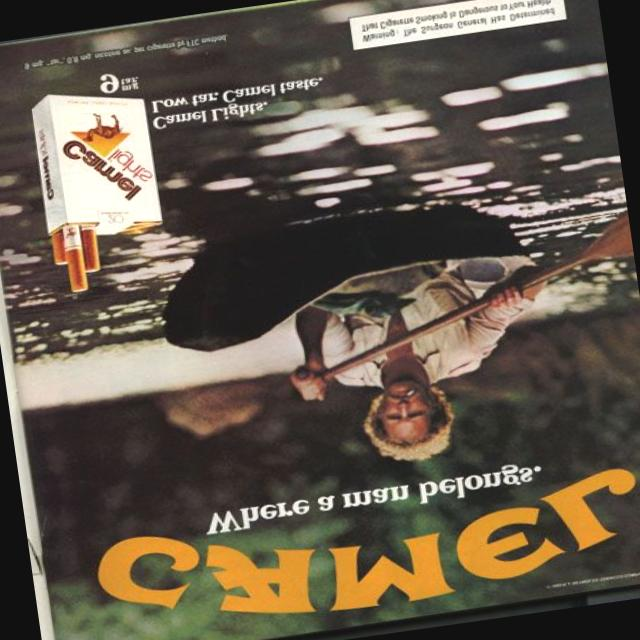smoke: (404, 388, 416, 397)
